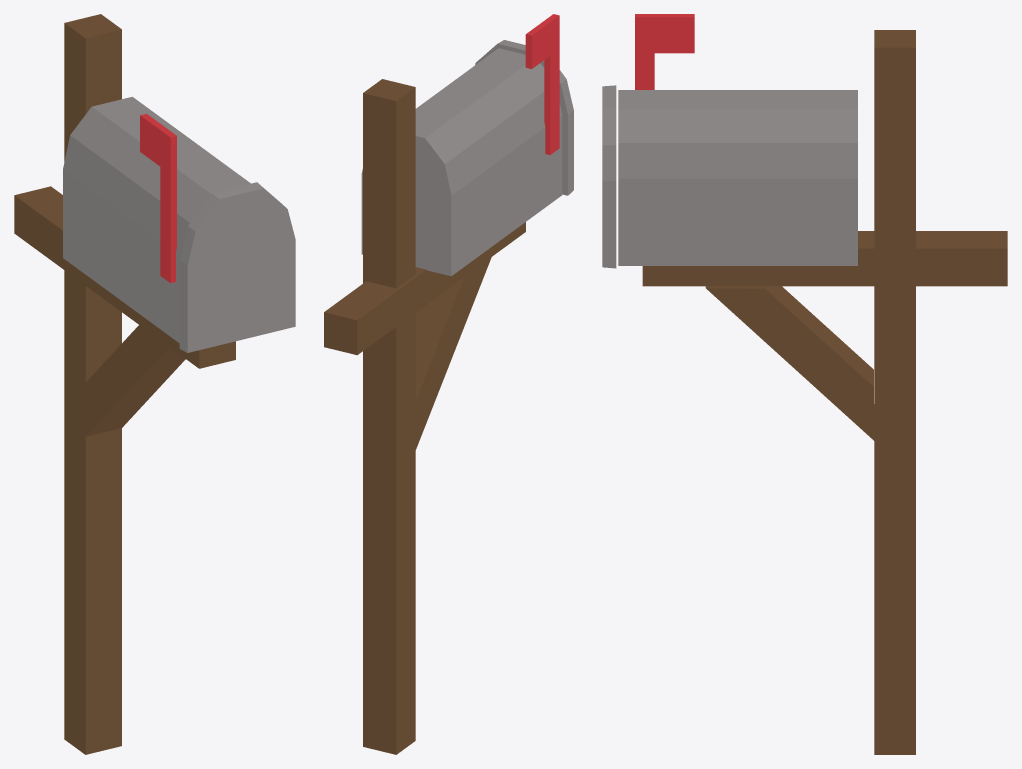
Rendered from mail-box.glb.
3 views of the same model, side by side, from view 1: azimuth 30°, elevation 25°; view 2: azimuth 150°, elevation 25°; view 3: azimuth 270°, elevation 25° (orthographic). The views are drawn at different scales.
Parts seen in each view (by area): view 1: mail-box; view 2: mail-box; view 3: mail-box.
Boxes of the visible parts, bbox=[...] form: mail-box: bbox=[14, 14, 295, 754]; mail-box: bbox=[324, 14, 573, 754]; mail-box: bbox=[602, 14, 1007, 754].
Size of the model in its own units: 0.2391 by 1.5 by 0.7773.
1 material, 1 textured.
